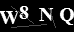8: (18, 5, 29, 19)
N: (38, 7, 54, 22)
Q: (59, 7, 74, 25)
W: (1, 10, 18, 25)
